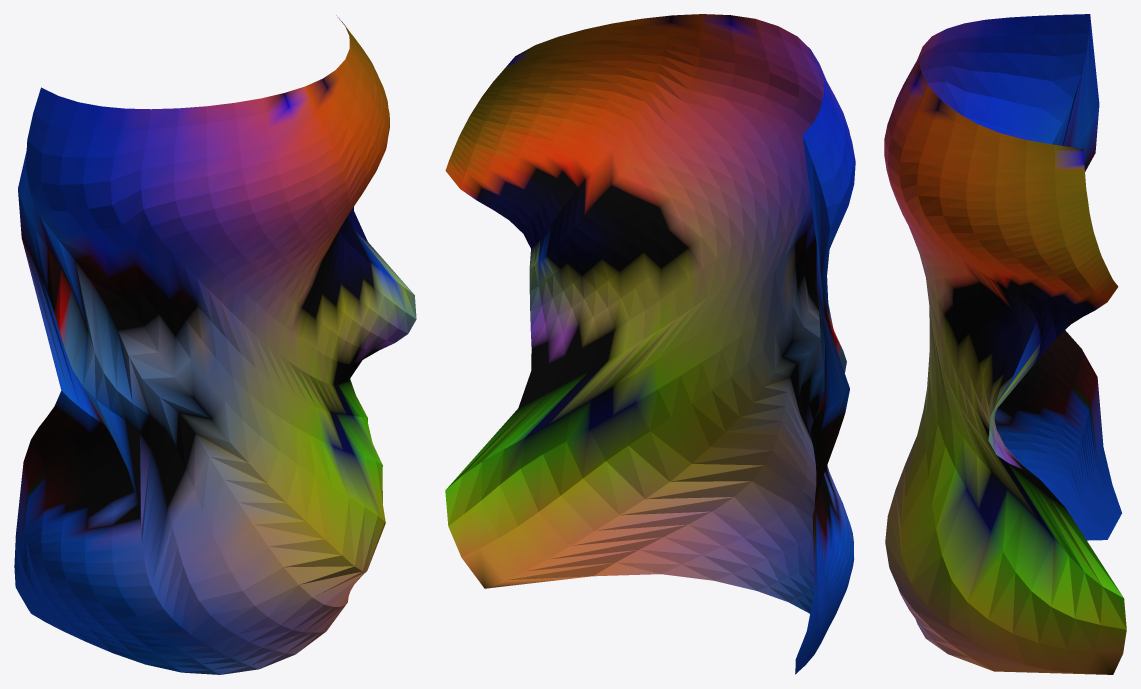
File: roof_with_color.obj
3 renders of one model, left to right at view 1: azimuth 30°, elevation 25°; view 2: azimuth 150°, elevation 25°; view 3: azimuth 270°, elevation 25°, orthographic.
Size of the model in its own units: 23.02 by 34.68 by 13.51.
